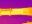Hotspot: (0, 7, 31, 16), (22, 22, 31, 23)
